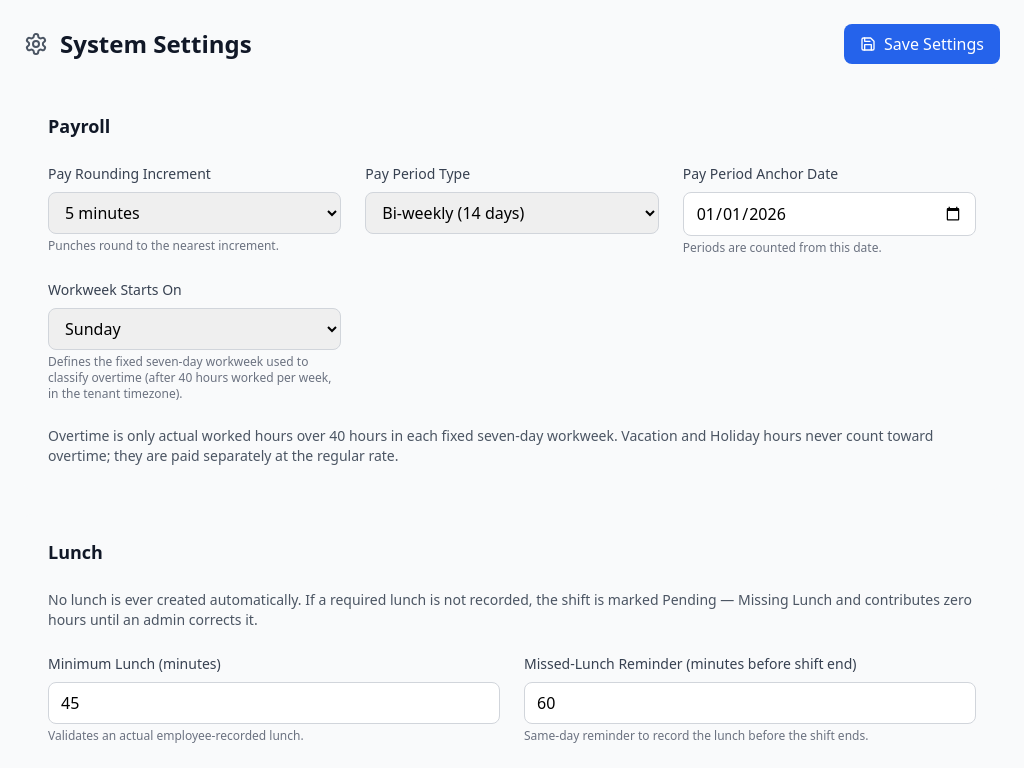
Settings form — focus retention › selecting an existing multi-digit value and typing replaces it
This screenshot has width=1024, height=768.
Expected: the text "Minimum Lunch (minutes)" is shown, x1=48 y1=654 x2=221 y2=673
Click the number field below "Minimum Lunch (minutes)" at (274, 703), box x1=48 y1=682 x2=500 y2=724
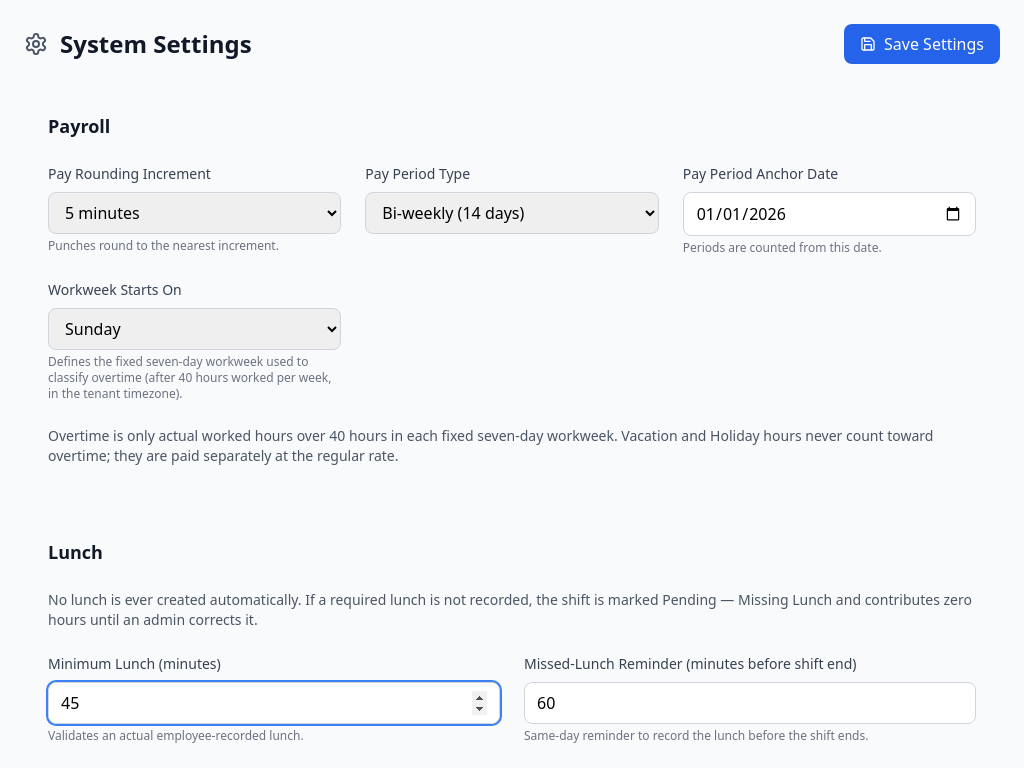
Type keys "120"
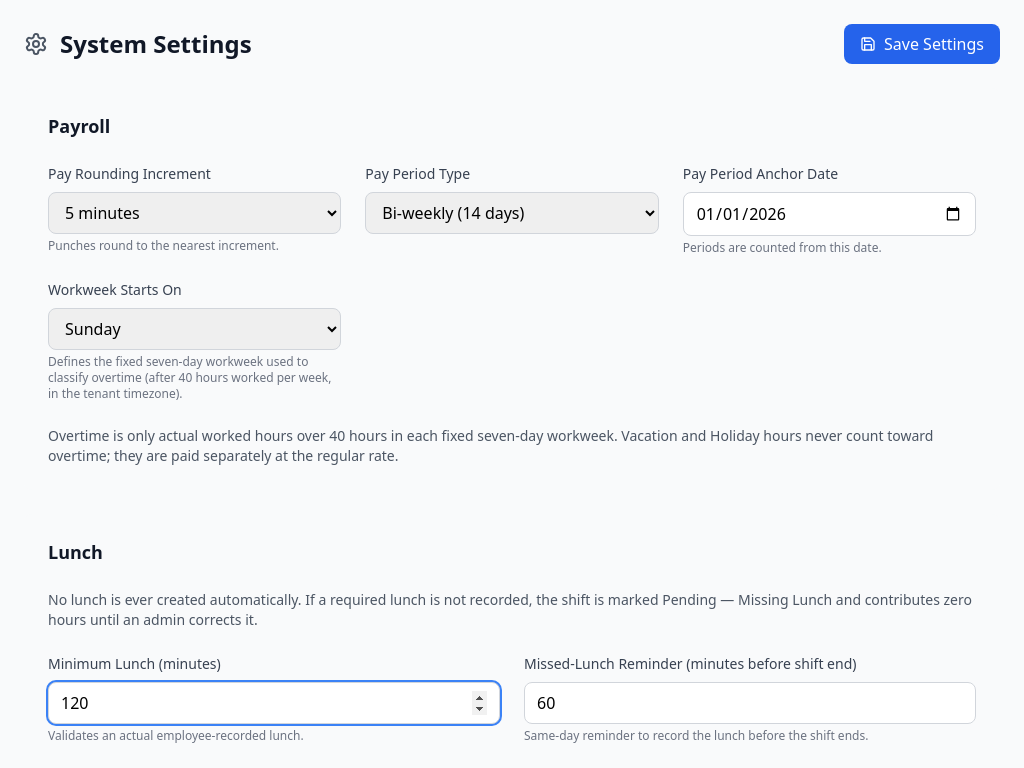
Now the number field below "Minimum Lunch (minutes)" holds "120", box x1=48 y1=682 x2=500 y2=724
